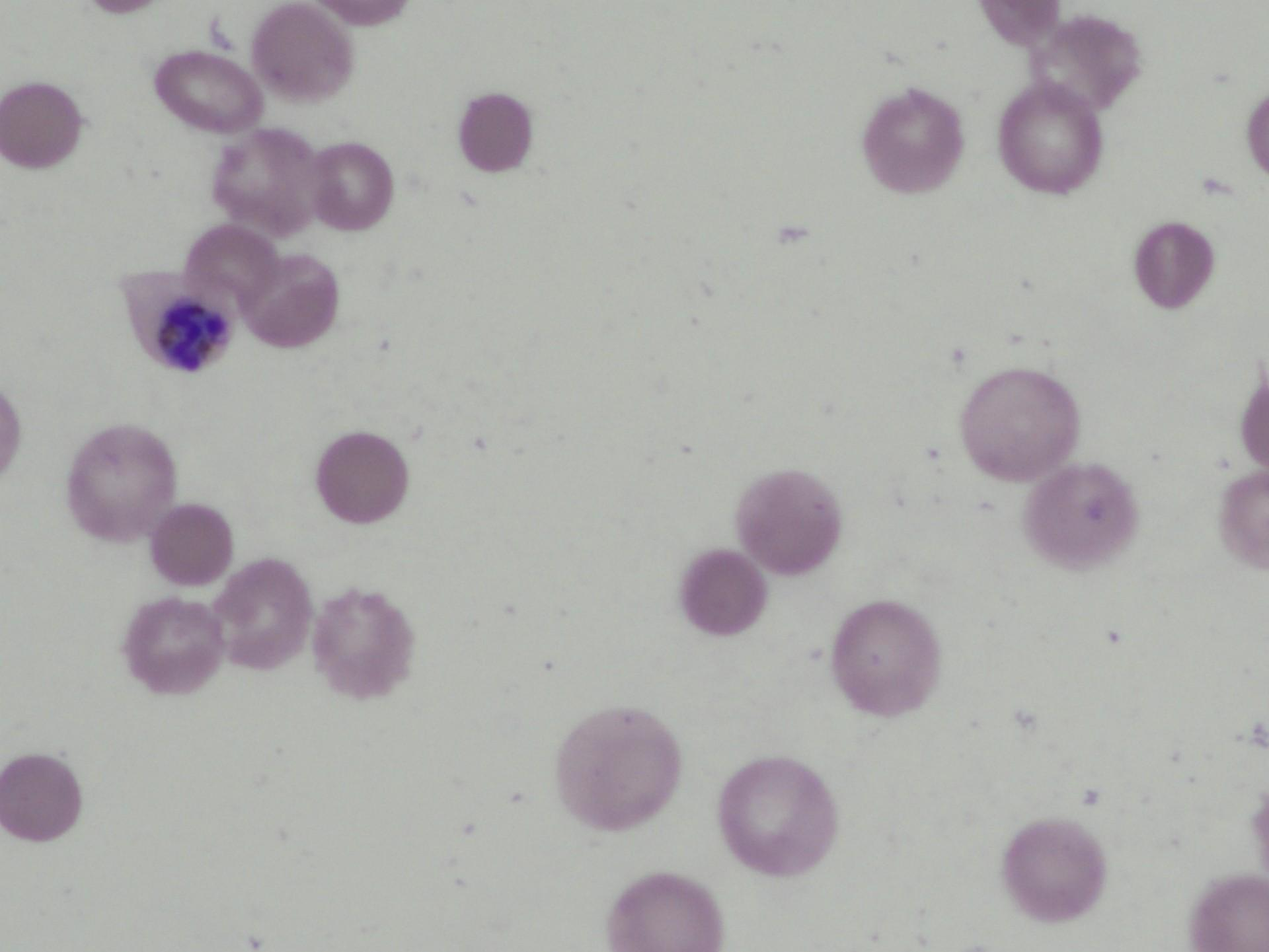Infected: (120, 270, 237, 375)
Uninfected: (555, 710, 678, 830), (720, 759, 836, 874), (960, 369, 1077, 480), (67, 425, 176, 538), (832, 604, 939, 714), (1024, 464, 1135, 568), (859, 93, 968, 197), (212, 128, 319, 233), (997, 87, 1102, 193), (738, 470, 844, 573), (313, 590, 412, 696), (1001, 821, 1105, 921), (212, 560, 309, 667), (251, 5, 353, 100), (124, 599, 224, 693), (1038, 17, 1139, 109), (153, 49, 262, 133), (241, 256, 336, 348), (185, 222, 286, 307), (608, 875, 716, 951), (317, 434, 406, 523), (681, 551, 767, 635), (0, 755, 81, 841), (151, 503, 235, 585), (313, 143, 395, 227), (0, 84, 82, 167), (1135, 223, 1215, 307), (463, 87, 527, 176), (1192, 879, 1268, 949), (1219, 474, 1269, 566), (980, 2, 1057, 44), (1241, 369, 1269, 465), (311, 1, 403, 24), (1245, 93, 1269, 176), (0, 390, 20, 472)
